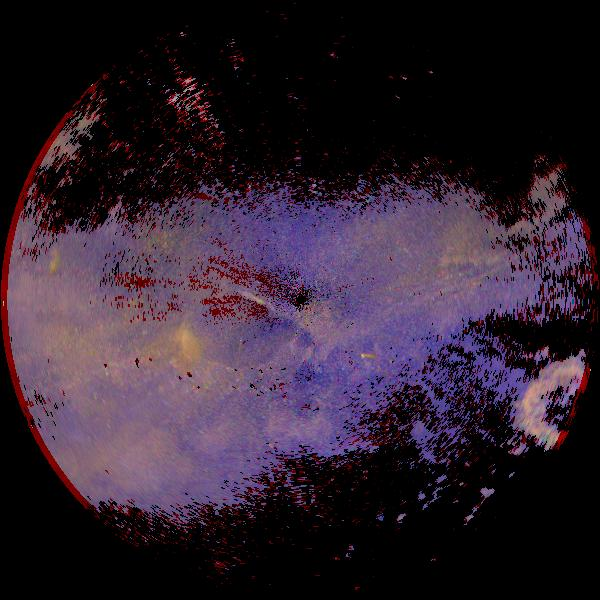roost: (90, 292, 237, 439)
